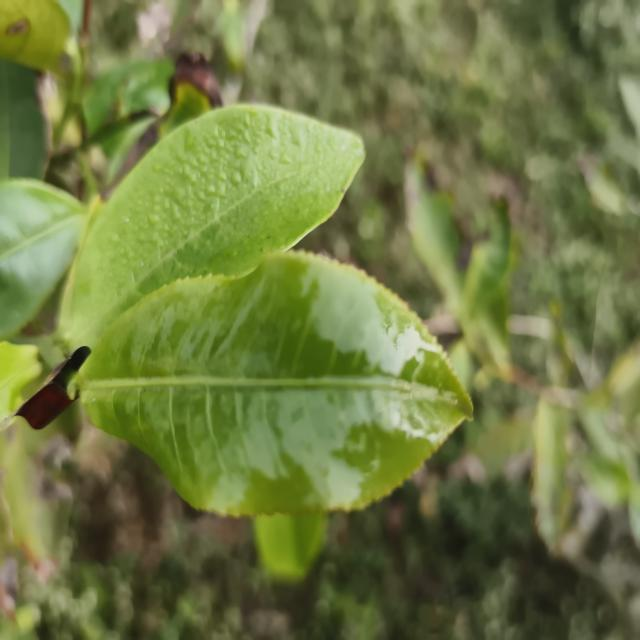Leaf: (76, 252, 472, 516), (62, 105, 365, 348), (0, 179, 85, 340), (404, 159, 462, 312), (0, 59, 48, 179), (532, 399, 570, 549), (254, 512, 327, 582), (464, 199, 510, 302)
